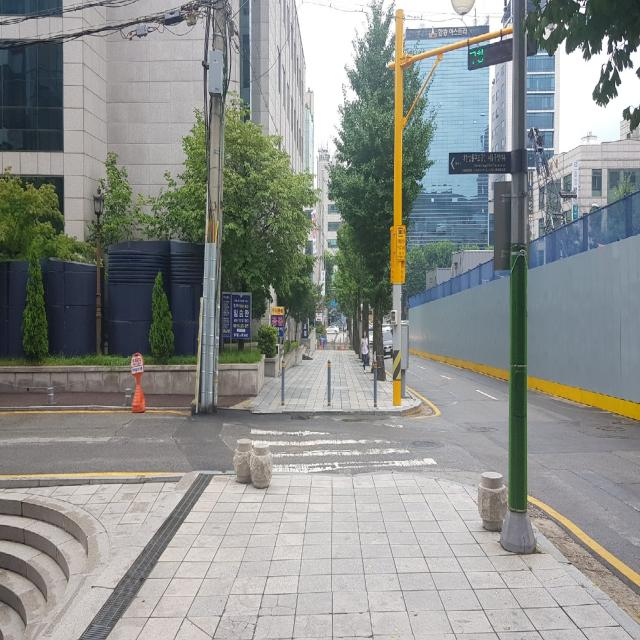횡단보도: (250, 428, 438, 473)
